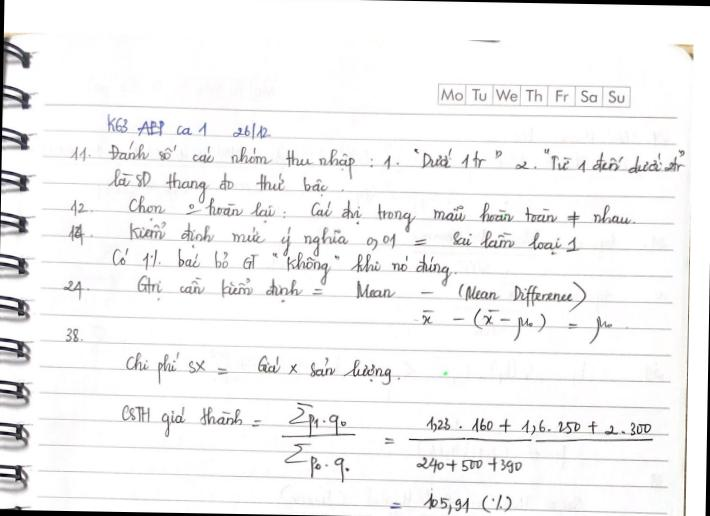text: (69, 136, 688, 186), (119, 396, 657, 448), (67, 193, 638, 237), (62, 216, 582, 262), (60, 270, 590, 315), (110, 246, 458, 290), (123, 349, 402, 388), (106, 168, 348, 206), (418, 306, 616, 348), (104, 112, 274, 141), (438, 86, 627, 106), (386, 488, 513, 516), (282, 440, 352, 482), (414, 454, 524, 478), (60, 326, 84, 346)
